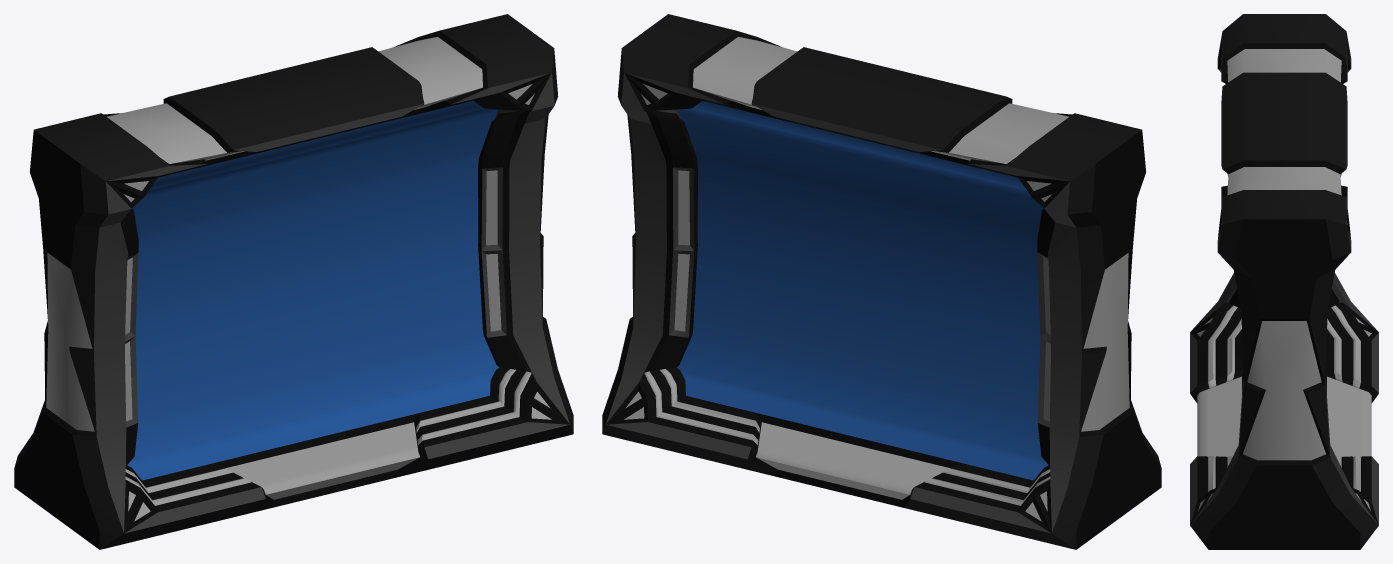
File: Window.FBX
The picture shows the model from 3 angles, left to right: view 1: azimuth 30°, elevation 25°; view 2: azimuth 150°, elevation 25°; view 3: azimuth 270°, elevation 25°; orthographic projection. The views are drawn at different scales.
Visible parts, largest first — view 1: Window; view 2: Window; view 3: Window.
Part boxes in pixels (x1,y1,x2,y2): Window: [14, 14, 573, 549]; Window: [602, 14, 1161, 549]; Window: [1190, 14, 1378, 549].
Size of the model in its own units: 400 by 300 by 155.
